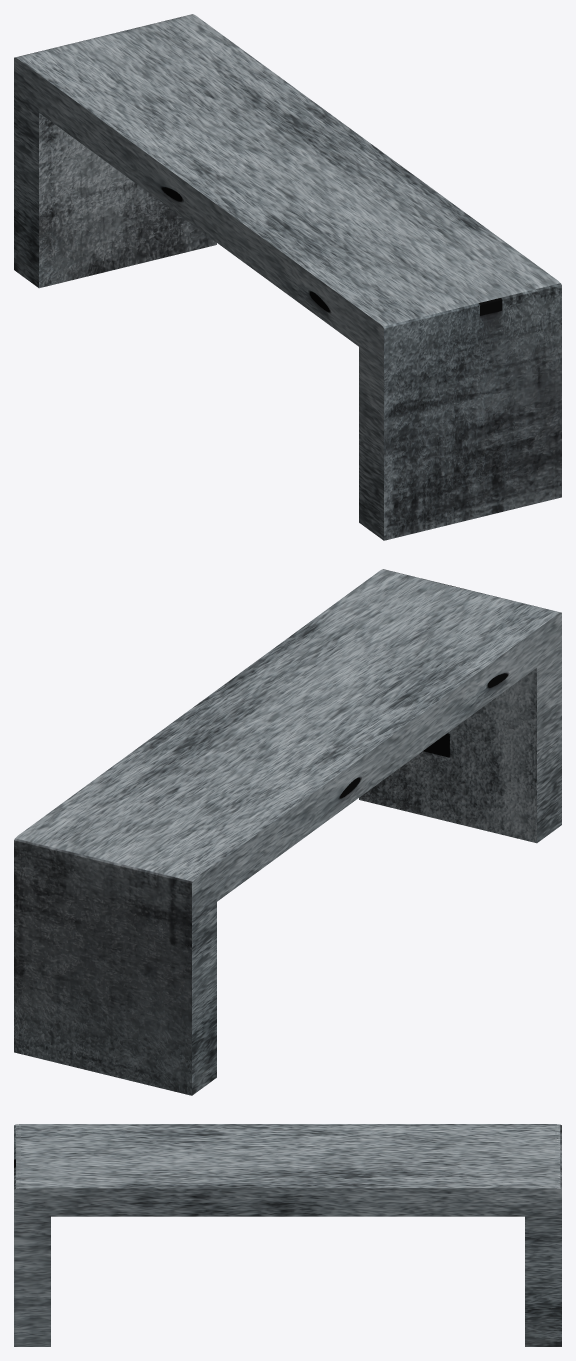
The model's file is minimalistic_modern_office_3.obj.
3 views of the same model, one above another, from view 1: azimuth 30°, elevation 25°; view 2: azimuth 150°, elevation 25°; view 3: azimuth 270°, elevation 25° (orthographic). The views are drawn at different scales.
Bounding box in the file's own units: 0.7064 × 0.8111 × 2.54.
